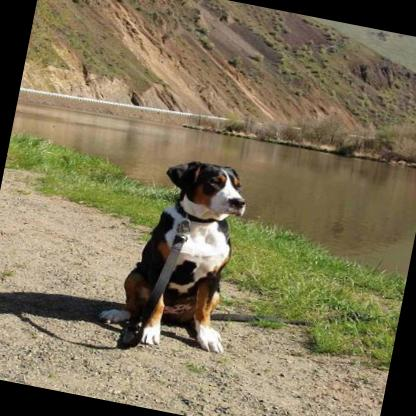Greater_Swiss_Mountain_dog: (91, 141, 264, 360)
